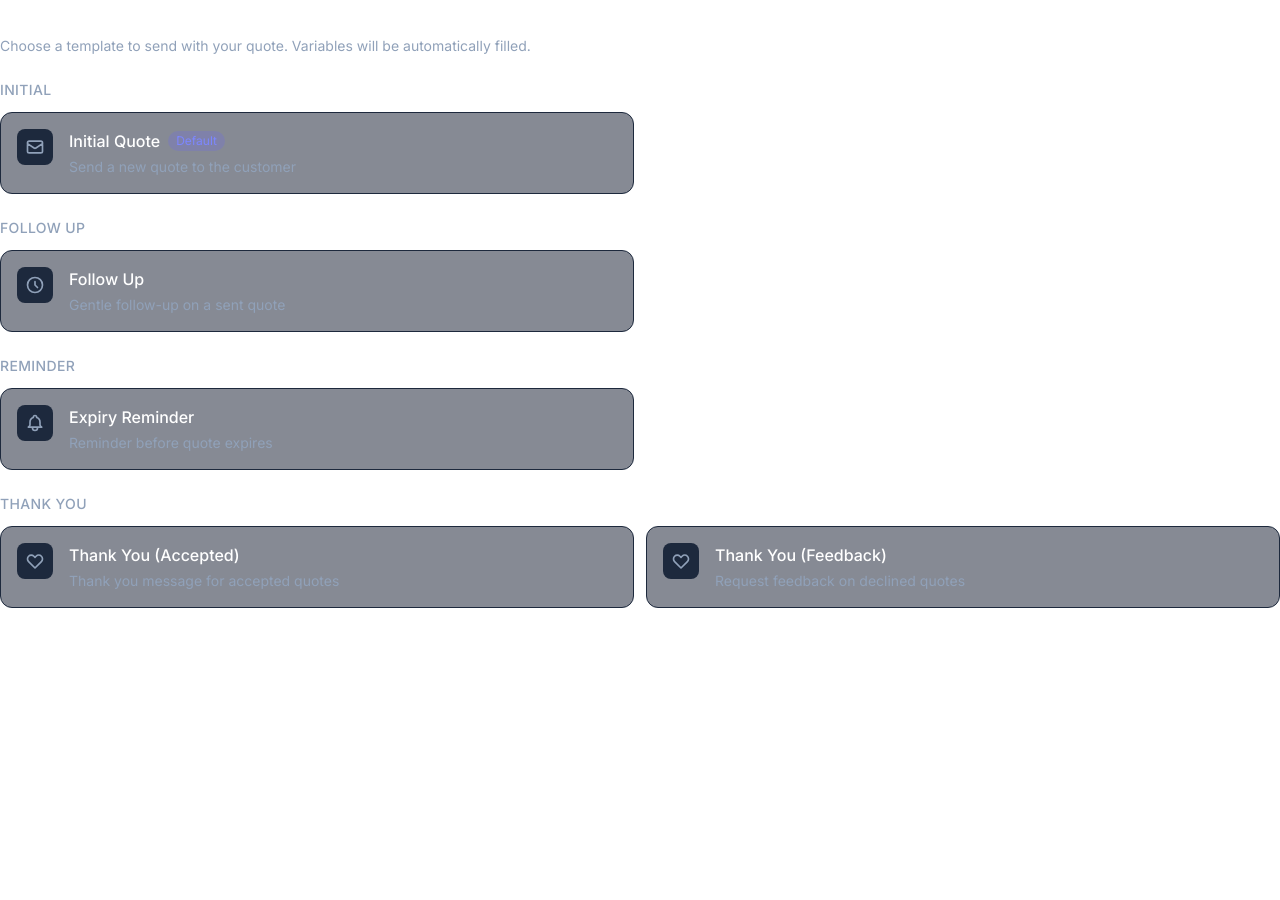
Test case: EmailTemplateSelector › interactions › opens preview when template is selected
This screenshot has width=1280, height=900.
Click the button with aria-label "Select Initial Quote template" at (35, 147), box 0,112 -> 634,194
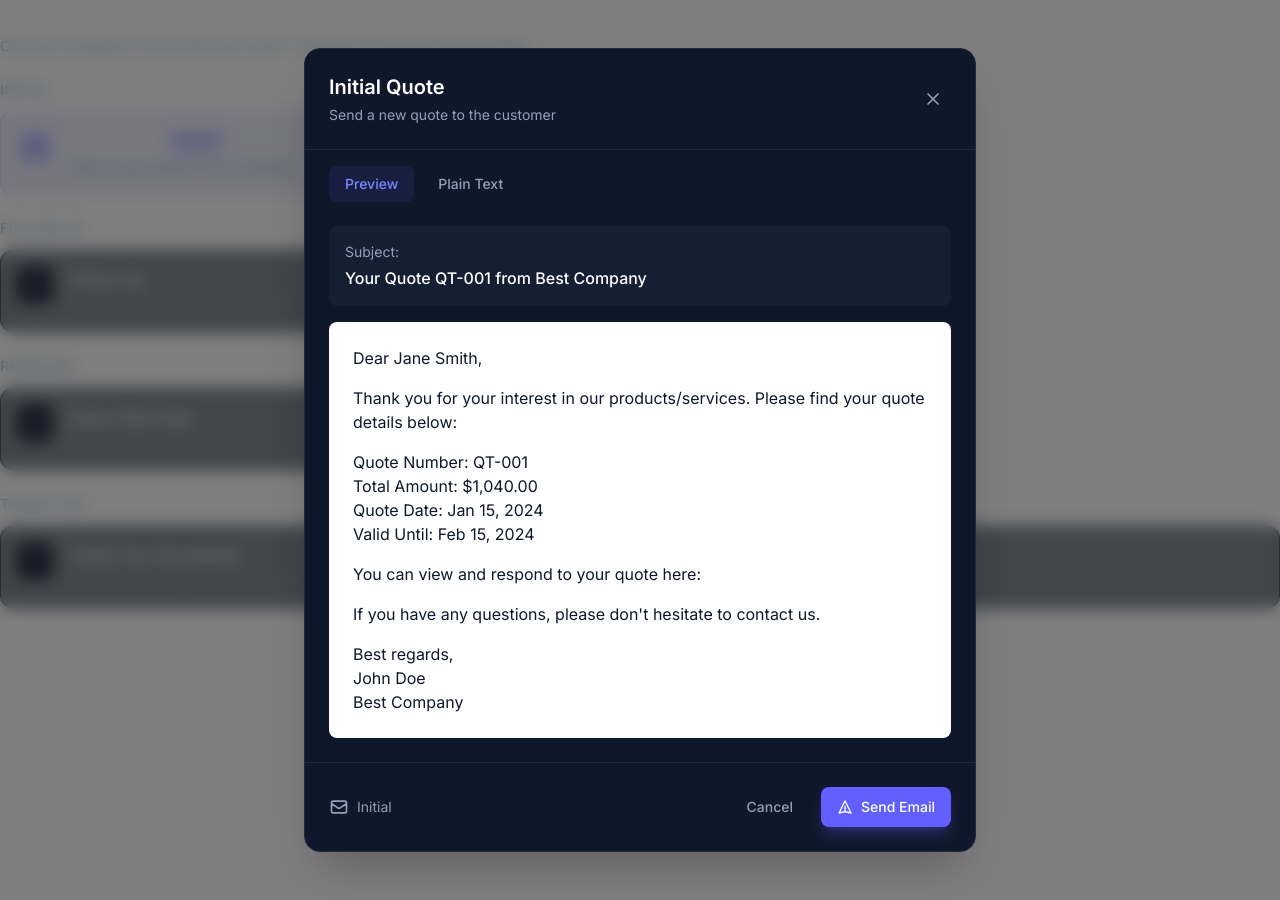
Check: the dialog is shown
Check: the heading "Initial Quote" is shown, box 329,75 -> 445,99
Check: the button "Preview" is shown, box 329,166 -> 414,202
